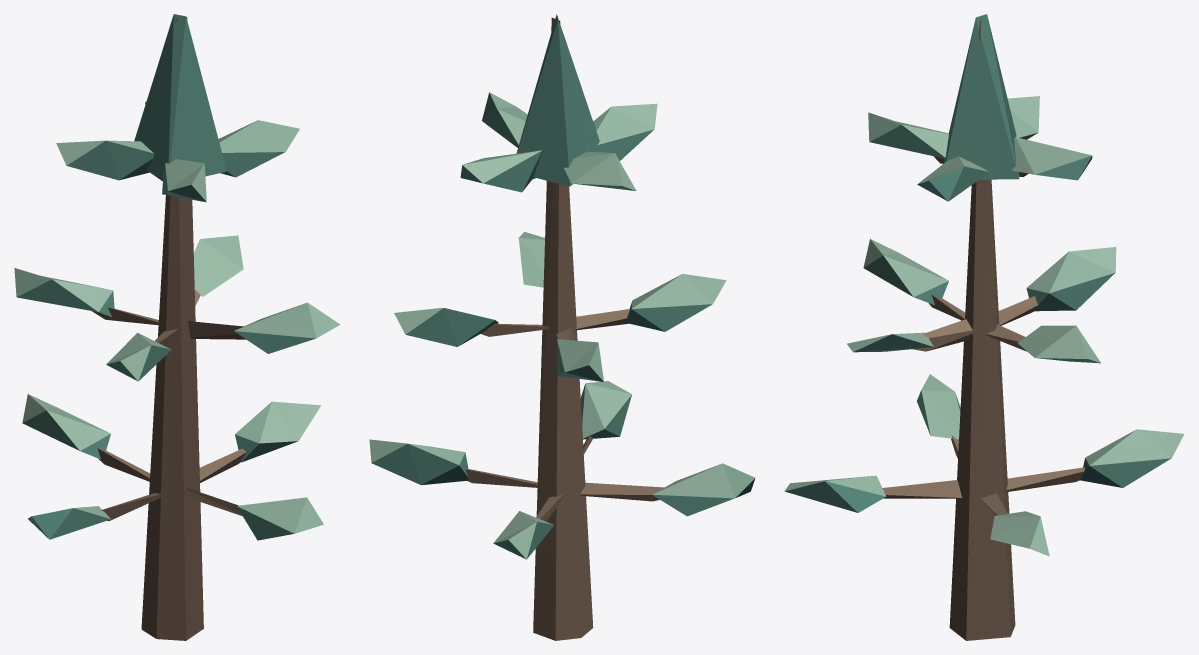
3 renders of one model, left to right at view 1: azimuth 30°, elevation 25°; view 2: azimuth 150°, elevation 25°; view 3: azimuth 270°, elevation 25°, orthographic.
Parts seen in each view (by area): view 1: WK_Tree_Fir_SilverYoung_LOD2_Compact; view 2: WK_Tree_Fir_SilverYoung_LOD2_Compact; view 3: WK_Tree_Fir_SilverYoung_LOD2_Compact.
Part boxes in pixels (left/top/right/bottom): WK_Tree_Fir_SilverYoung_LOD2_Compact: left=14, top=14, right=340, bottom=640; WK_Tree_Fir_SilverYoung_LOD2_Compact: left=369, top=14, right=755, bottom=640; WK_Tree_Fir_SilverYoung_LOD2_Compact: left=784, top=14, right=1184, bottom=640.
Bounding box in the file's own units: 4.33 × 7.46 × 4.38.
